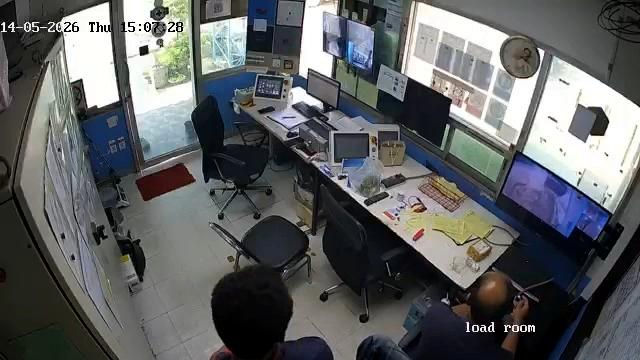Head: (211, 267, 291, 340), (467, 270, 512, 318)
People: (206, 264, 336, 360), (405, 269, 530, 360)
Phone: (257, 106, 276, 115)
